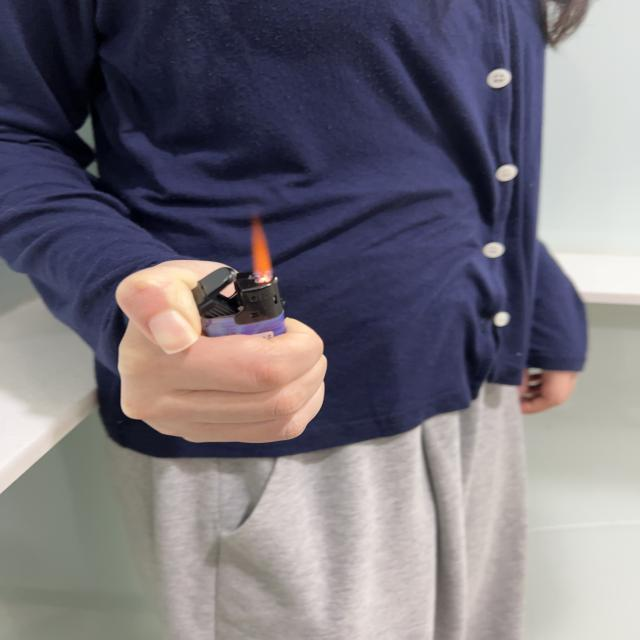fire: (246, 210, 276, 284)
